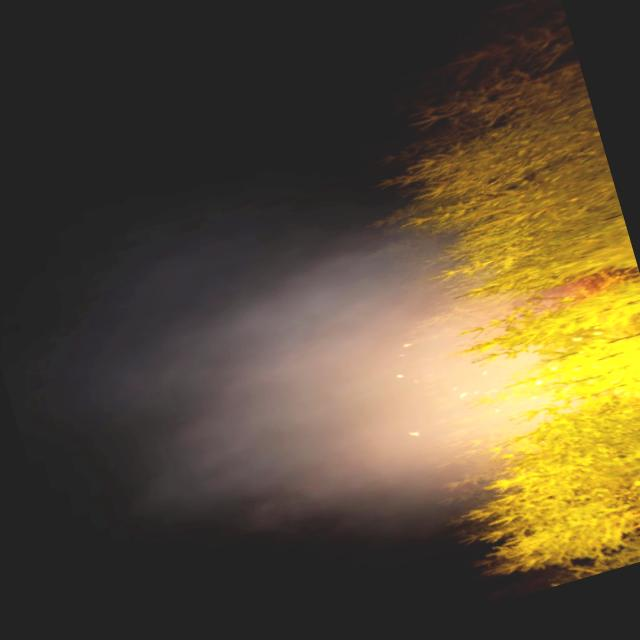smoke: (96, 198, 574, 592)
